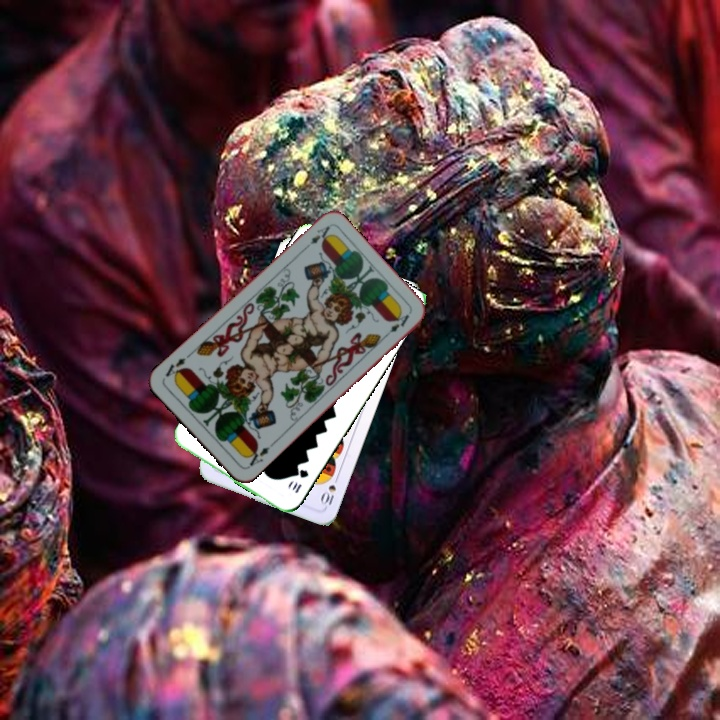EA: (299, 222, 333, 253), (242, 443, 272, 470)
G10: (287, 465, 311, 496)
S10: (317, 471, 342, 508)
